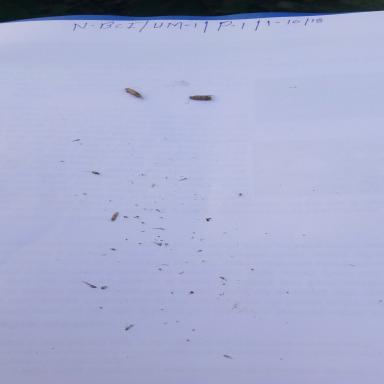pbw: (180, 90, 220, 108), (118, 83, 148, 104)
